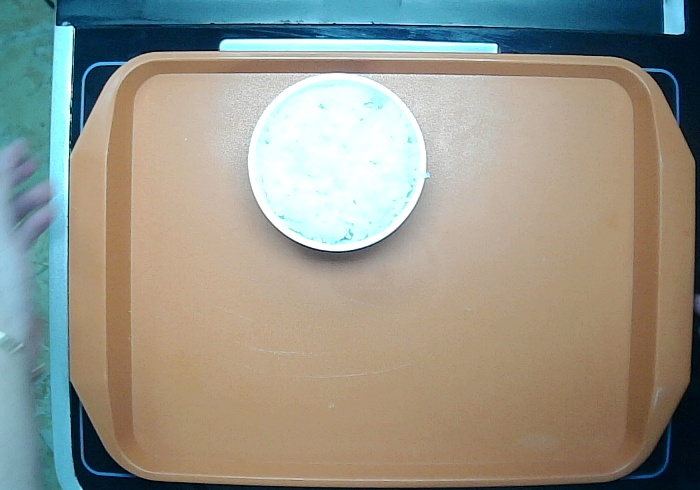HZYJPL-Fan_Wan: (243, 69, 432, 258)
